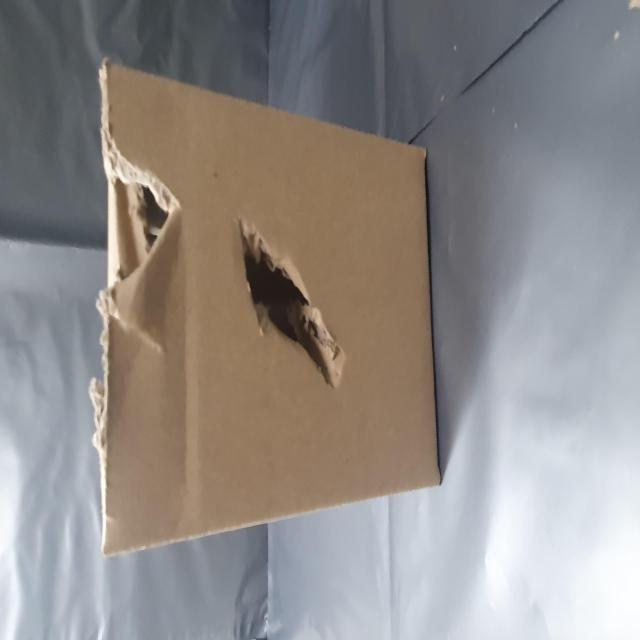damaged: (142, 420, 244, 614), (182, 183, 290, 324)
